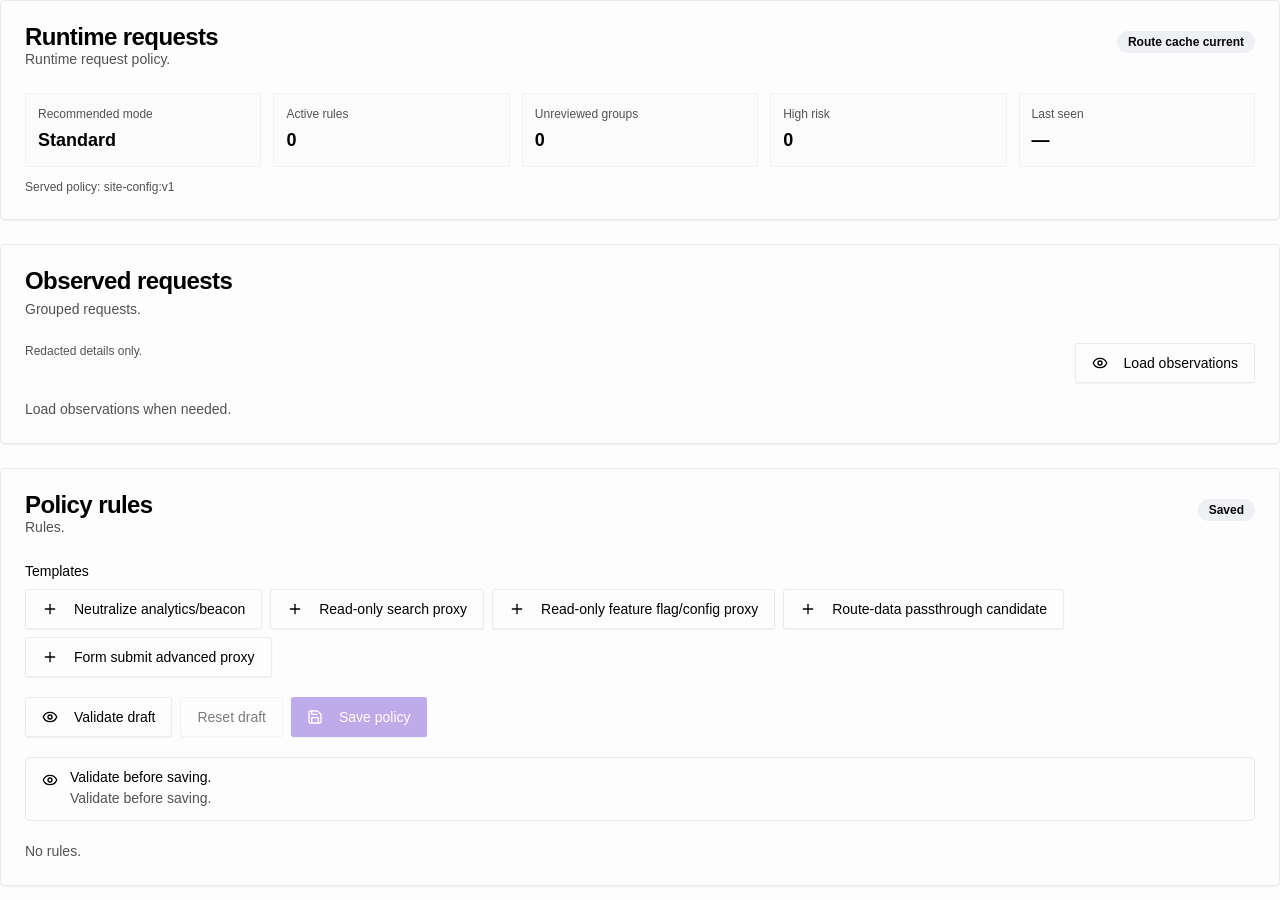
Test: RuntimeRequestsManager › loads observations on demand and renders returned groups
Expected: the text "Load observations when needed." is shown, 25,401 -> 231,417
Expected: the text "/api/cart" is not shown
Click the button "Load observations" at [1165, 363], box 1075,343 -> 1255,383
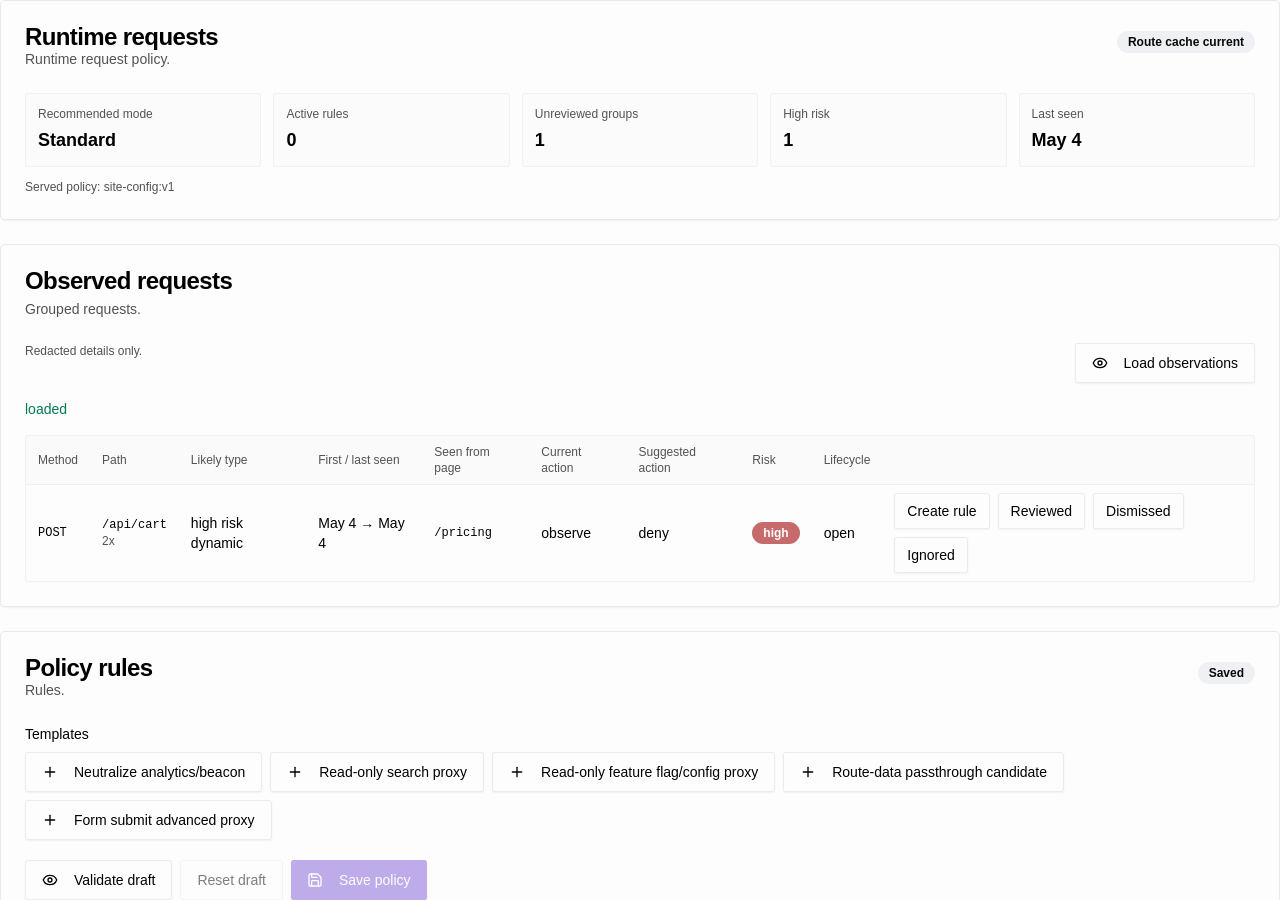
Expected: the text "/api/cart" is shown, 102,517 -> 167,533
Expected: the text "loaded" is shown, 25,401 -> 67,417
